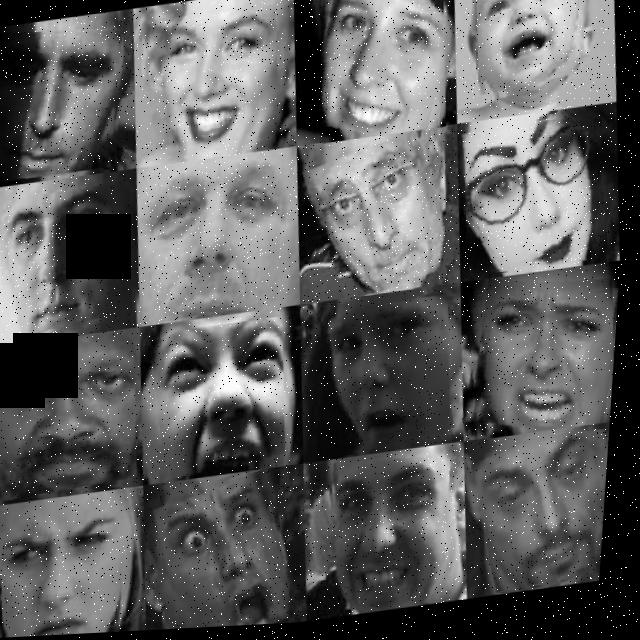anger: (462, 274, 624, 447), (0, 20, 135, 183), (0, 500, 147, 639)
fear: (304, 133, 460, 305), (146, 319, 300, 484), (158, 471, 313, 632), (320, 298, 464, 460)
happy: (322, 454, 467, 623), (303, 0, 456, 148), (146, 6, 288, 163)
neutral: (458, 112, 616, 282), (145, 158, 302, 327), (0, 337, 151, 503), (0, 184, 135, 341)
sad: (475, 434, 616, 602), (469, 0, 594, 103)
